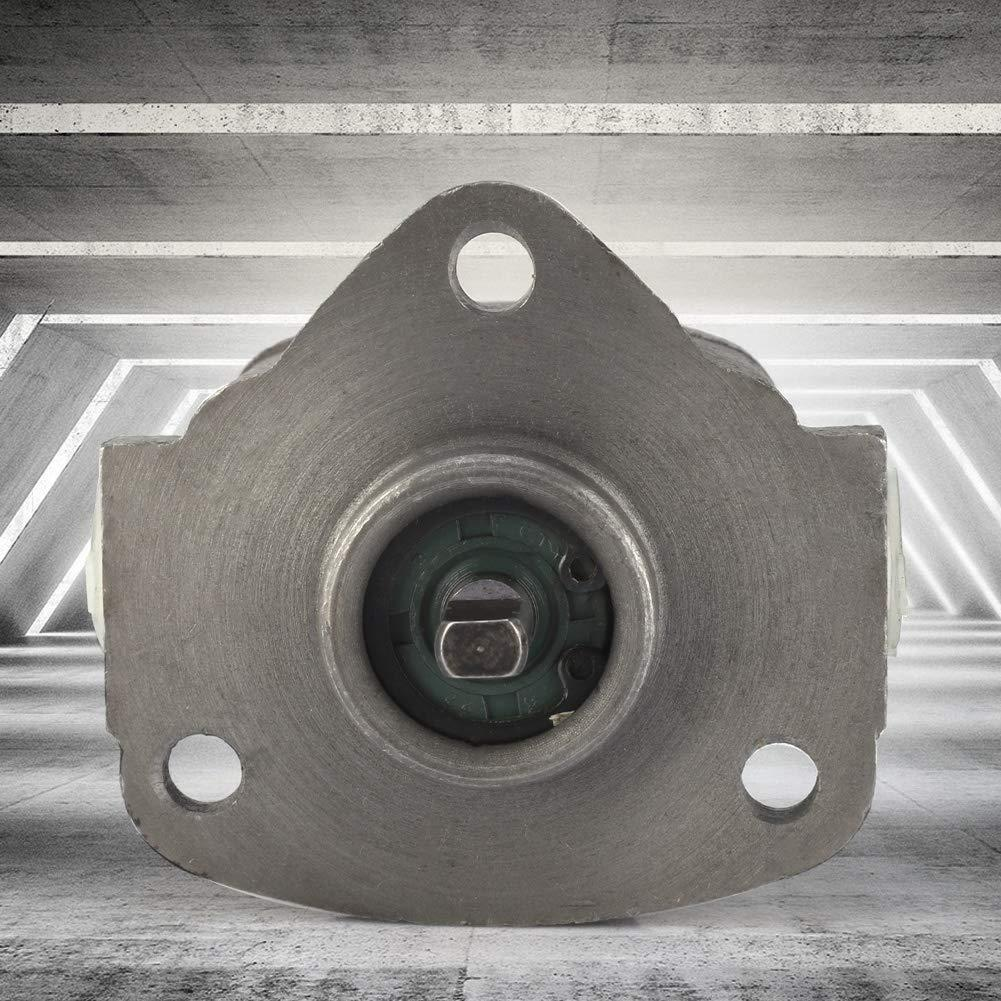hole: (440, 220, 552, 328), (152, 720, 254, 816), (737, 731, 827, 825)
